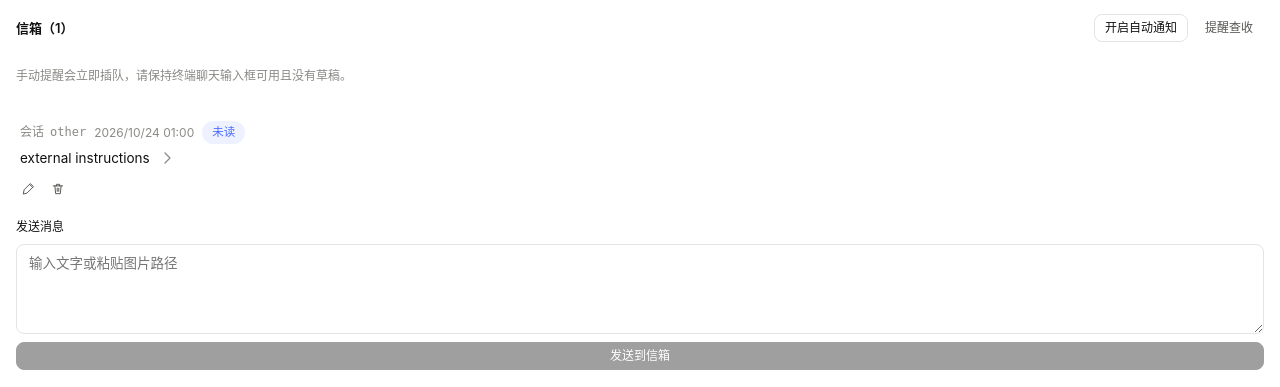
removes mail from the sidebar after an external read-state update
Click the button "会话 other 2026/10/24 01:00 未读 external instructions". click: x=68, y=132
box: [16,113,1264,177]
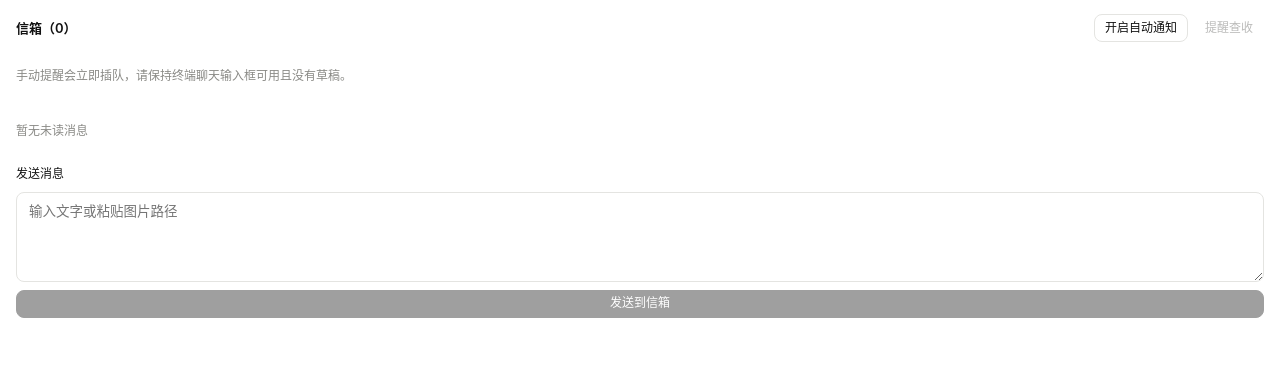
Expected: the button "编辑消息" is gone
Expected: the text "暂无未读消息" is shown, [16,123,88,138]
Expected: the button "external instructions" is gone
